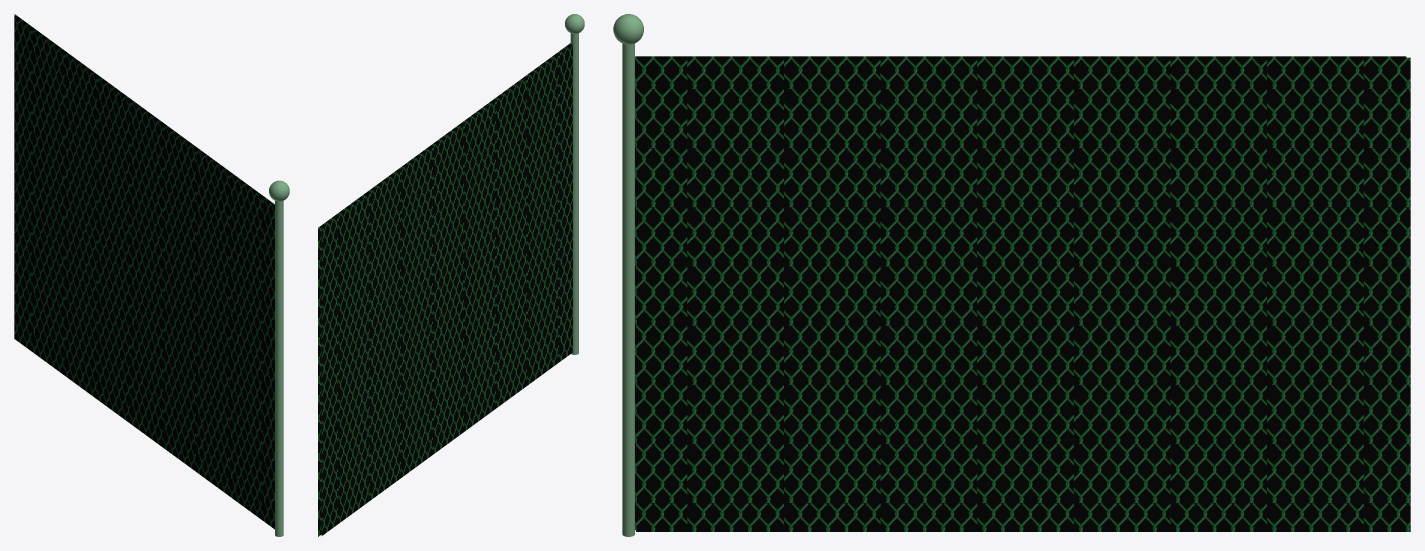
Rendered from fenceGreen.fbx.
The picture shows the model from 3 angles, left to right: view 1: azimuth 30°, elevation 25°; view 2: azimuth 150°, elevation 25°; view 3: azimuth 270°, elevation 25°; orthographic projection. The views are drawn at different scales.
Parts seen in each view (by area): view 1: pCube3, pSphere2; view 2: pCube3, pSphere2; view 3: pCube3, pSphere2.
Part boxes in pixels (x1,y1,x2,y2): pCube3: (14, 14, 274, 529); pSphere2: (269, 180, 289, 536); pCube3: (318, 43, 572, 536); pSphere2: (565, 14, 584, 354); pCube3: (635, 56, 1410, 531); pSphere2: (613, 14, 643, 536).
Bounding box in the file's own units: 2 × 37.13 × 51.71.
2 materials, 1 textured.
